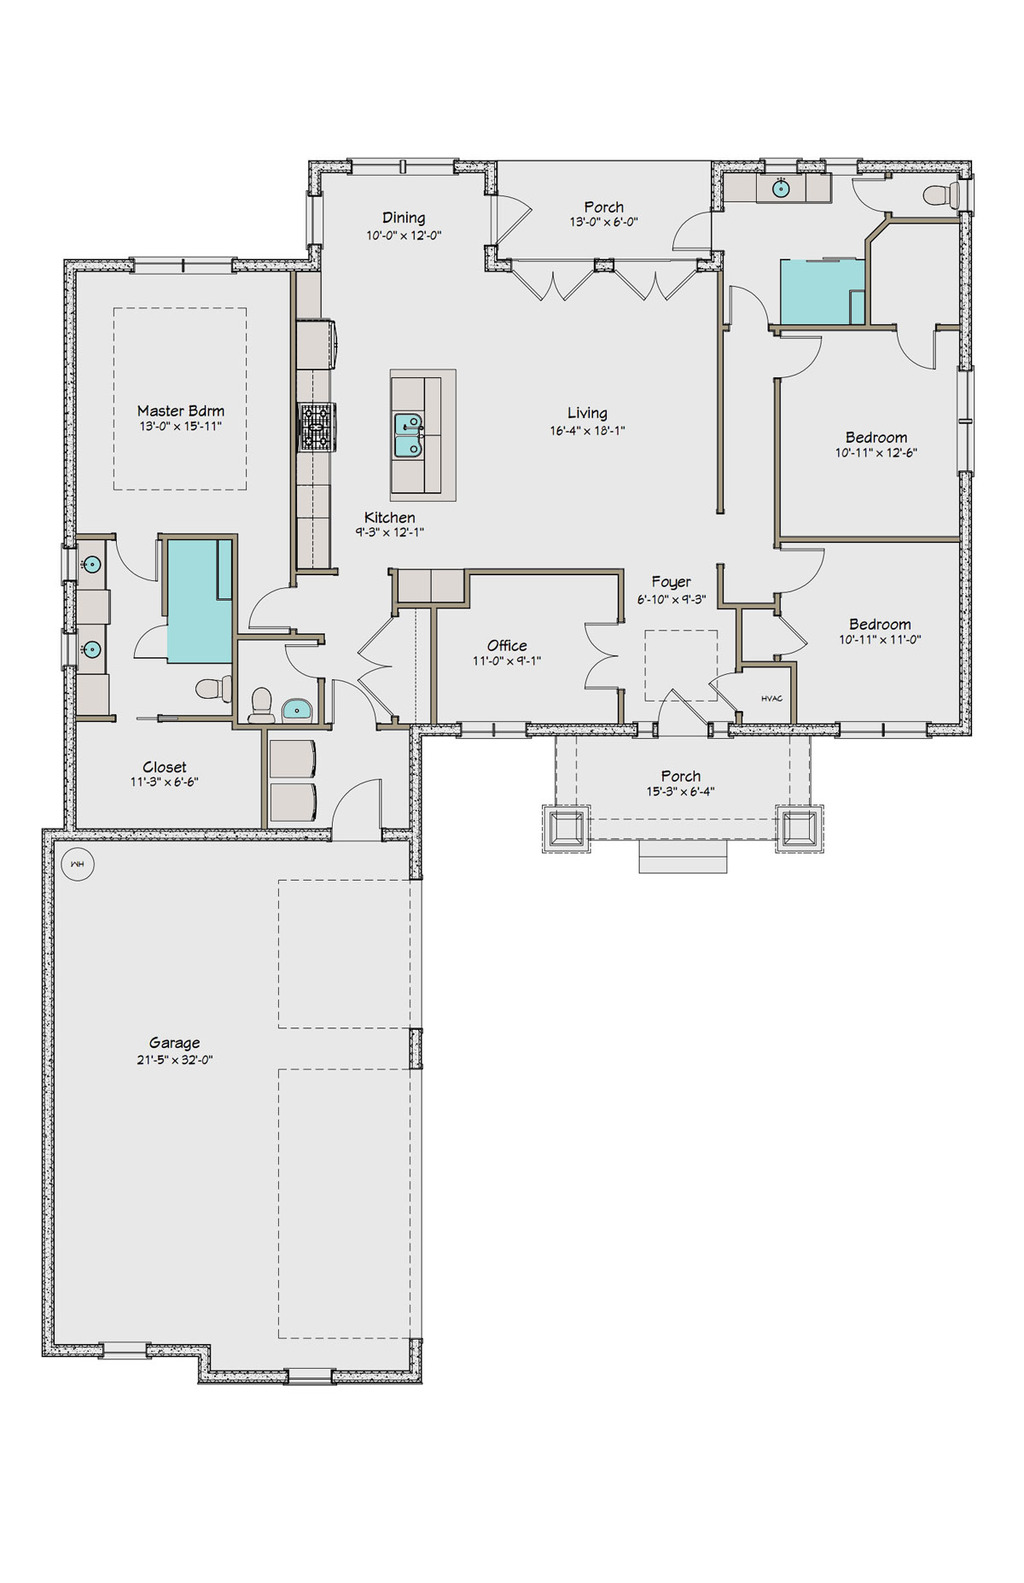door: (342, 599, 417, 730), (500, 245, 605, 308), (873, 303, 956, 377), (332, 782, 407, 857), (612, 269, 700, 318), (583, 612, 637, 693), (650, 201, 720, 262), (717, 260, 773, 335), (98, 525, 161, 588), (654, 682, 717, 738), (238, 588, 313, 633), (488, 196, 544, 243), (773, 538, 822, 591), (763, 606, 812, 660), (849, 157, 890, 218), (776, 333, 827, 382)
kitchen_bar: (372, 372, 481, 543)
large_sink: (903, 164, 973, 213), (249, 674, 295, 735), (188, 674, 242, 717)
small_sink: (73, 535, 112, 682)
twin_sink: (387, 408, 446, 467)
window: (125, 240, 259, 297), (825, 708, 932, 752), (322, 150, 454, 183), (451, 691, 522, 747), (951, 372, 982, 482), (283, 1360, 351, 1401), (95, 1333, 146, 1370)
